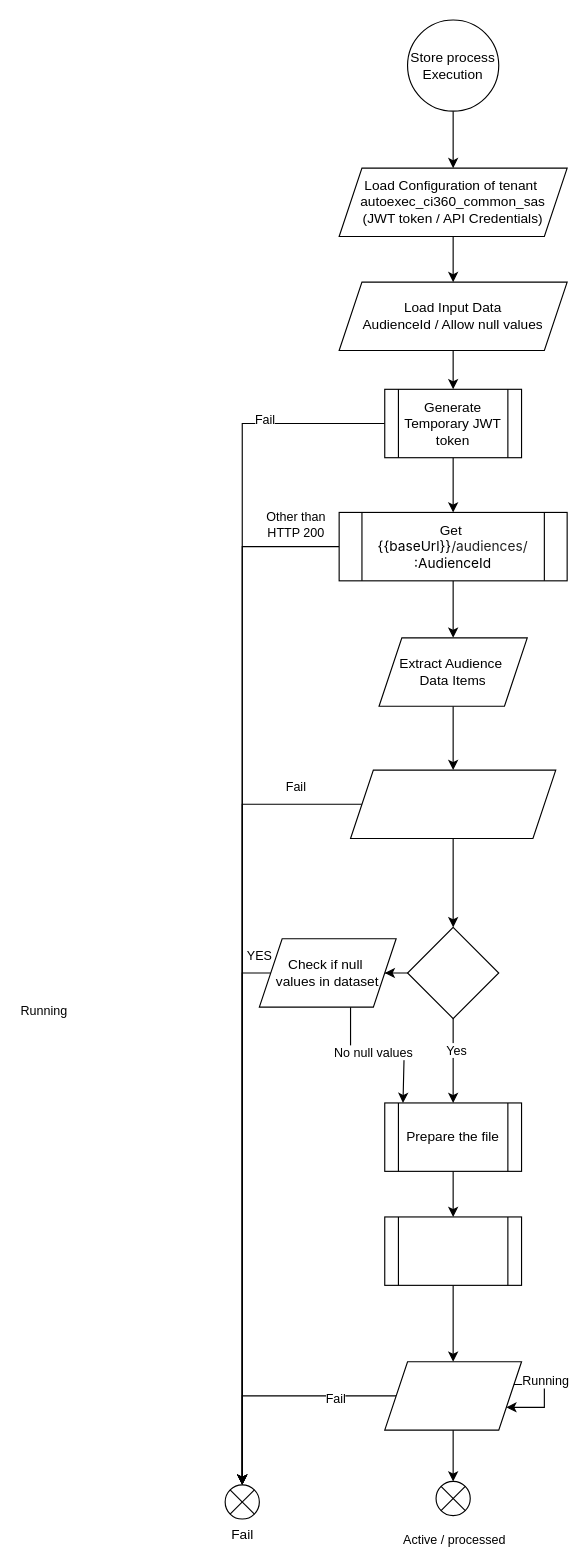
This 587x1566 diagram has some shape labels left out. The shapes that lost their labels are listed below. From the top down, each one's centre as x and y in pixels, then its label:
the point at 452,803: Validate export atributes to Audience data
the point at 452,972: Allow null values?
the point at 453,1250: Upload the audience file
the point at 453,1395: Get Audience upload status
